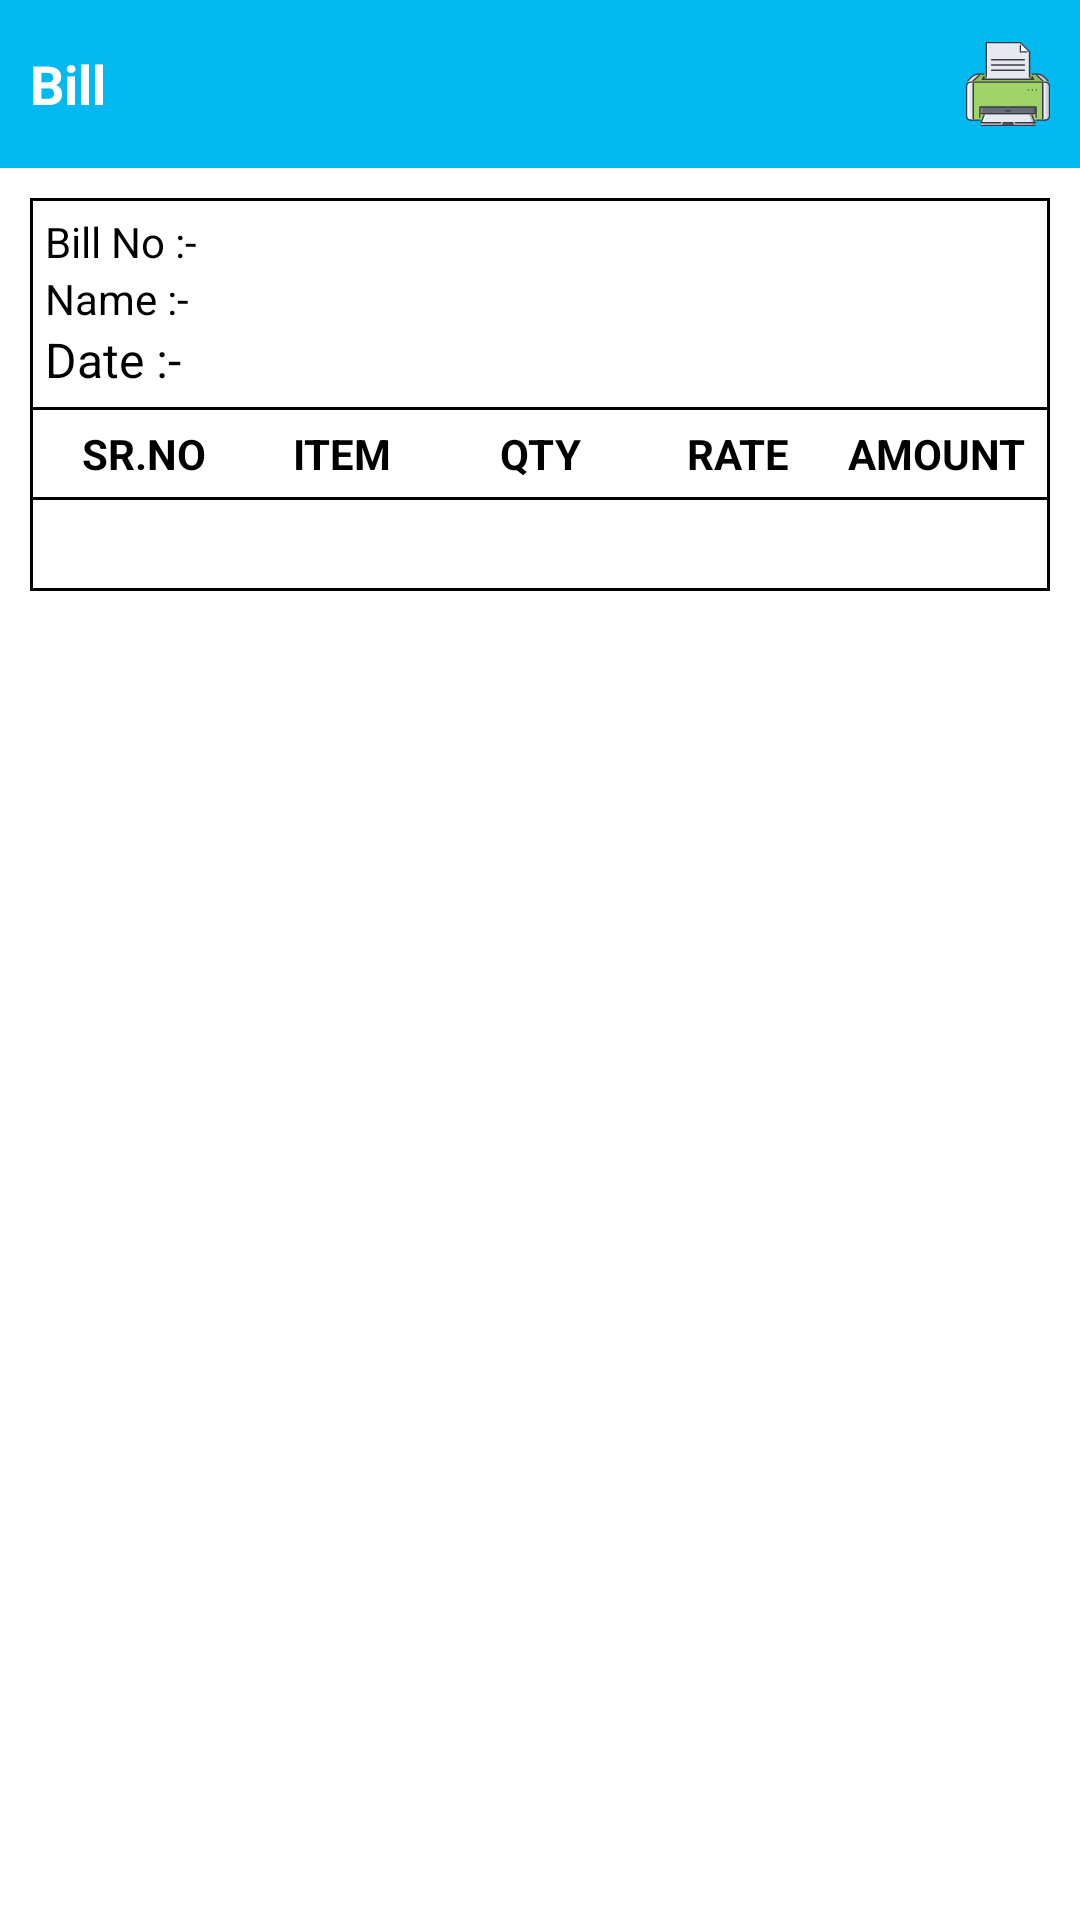

Icons on this 1080x1920 Android screen, each with its box as (x1, y1, x2, y2):
printer: (966, 42, 1050, 126)
